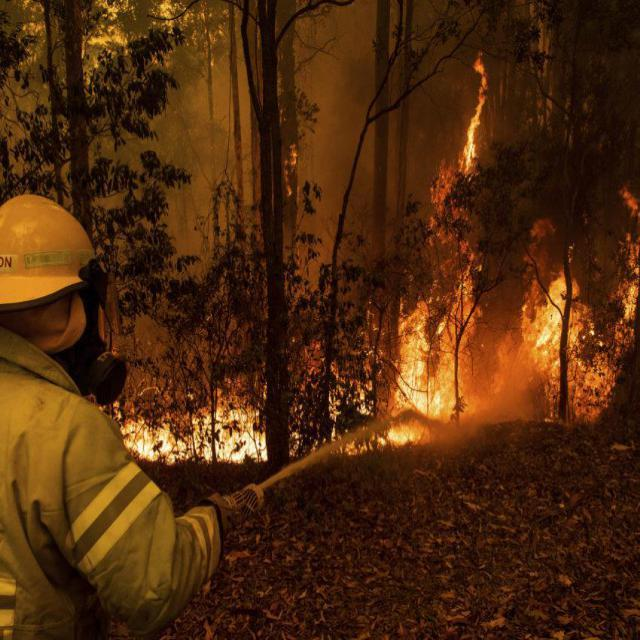Fire: (344, 53, 489, 454), (525, 192, 638, 428), (110, 381, 268, 466)
